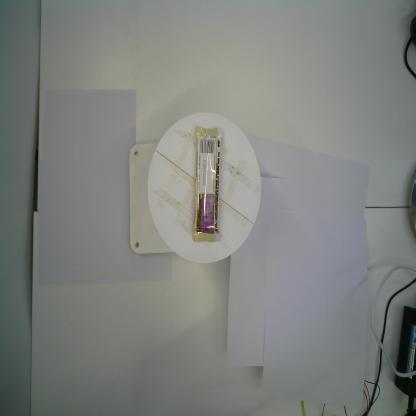Chocolate: (192, 124, 224, 243)
